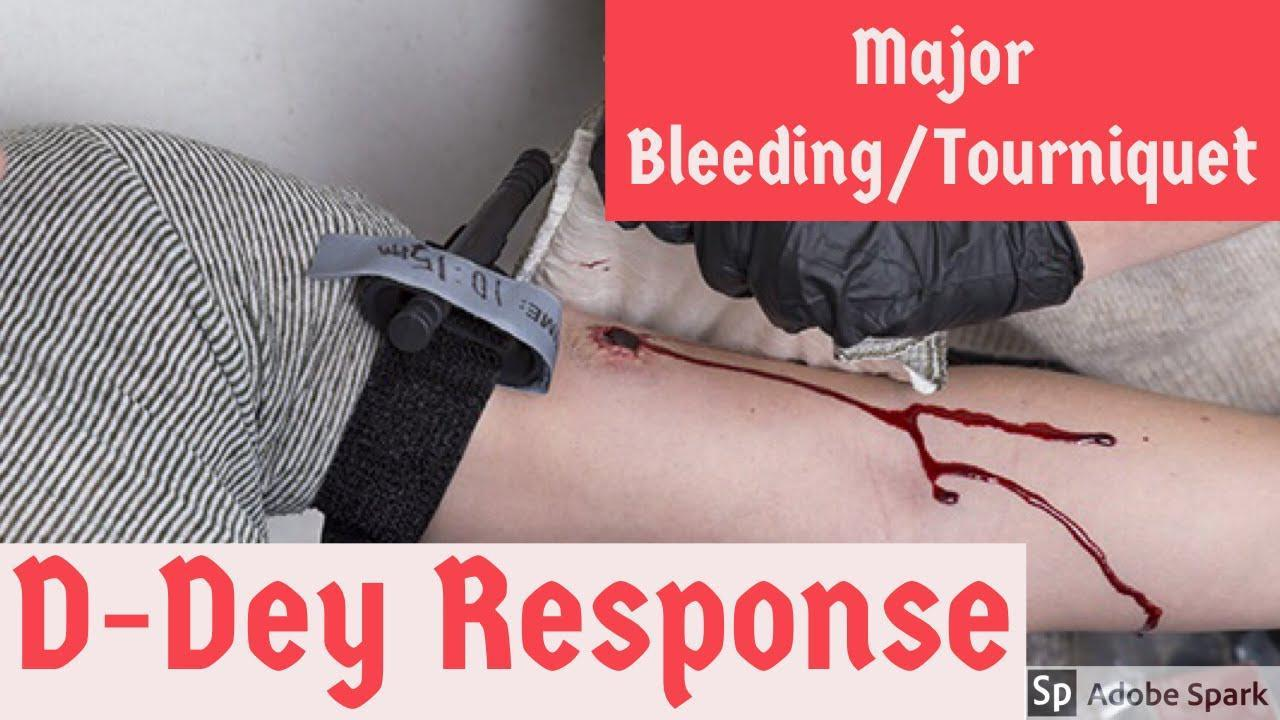gauze: (517, 118, 948, 394)
